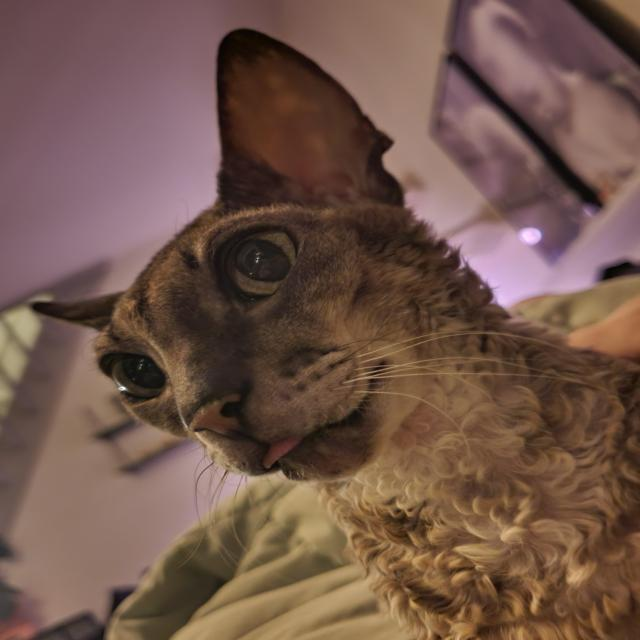Cornish Rex: (21, 23, 640, 640)
